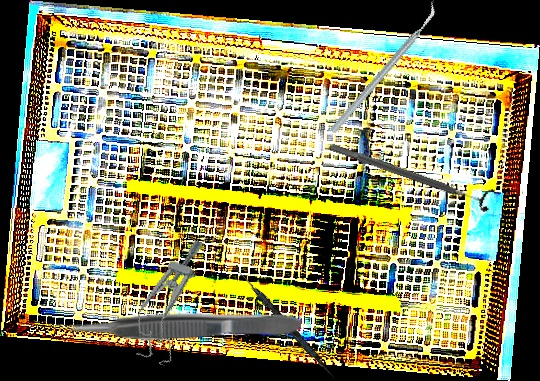Chopper: (299, 0, 468, 135)
Fixation Ring: (325, 133, 497, 215)
Spatula Surgical: (230, 264, 340, 381)
Speculum: (123, 230, 214, 368)
Tissue Forceps: (67, 312, 301, 341)
